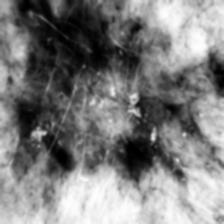Potentially Malignant Skin Tumors: (9, 8, 224, 188)
